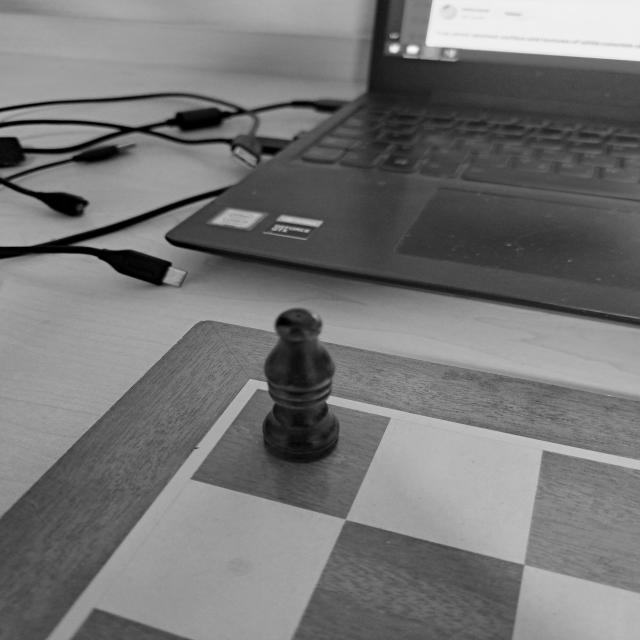chess-table-corners: (207, 360, 309, 420)
